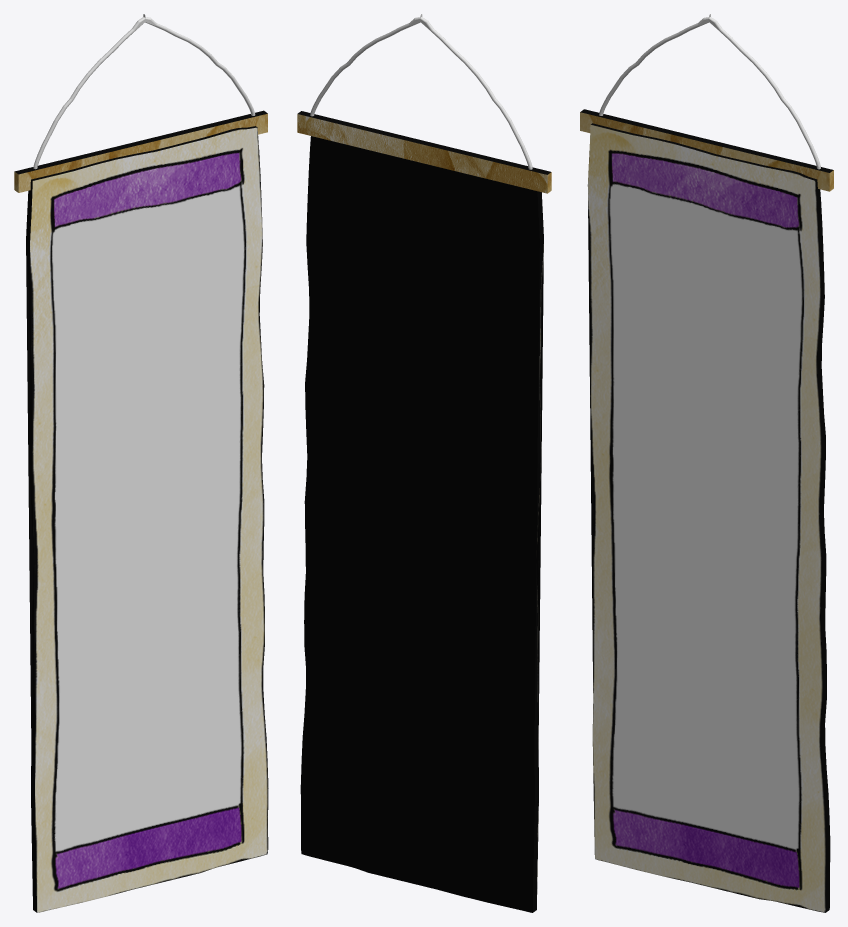
Rendered from PosterMod.fbx.
3 views of the same model, side by side, from view 1: azimuth 30°, elevation 25°; view 2: azimuth 150°, elevation 25°; view 3: azimuth 330°, elevation 25° (orthographic).
Parts seen in each view (by area): view 1: Cartel, Soporte, Cuerda; view 2: Cartel, Soporte, Cuerda; view 3: Cartel, Soporte, Cuerda.
Part boxes in pixels (box(x1,y1,x2,y2)): Cartel: box(26, 126, 268, 912); Soporte: box(14, 110, 267, 192); Cuerda: box(33, 14, 255, 169); Cartel: box(300, 136, 543, 912); Soporte: box(297, 111, 551, 193); Cuerda: box(310, 14, 532, 169); Cartel: box(587, 123, 830, 912); Soporte: box(580, 109, 833, 191); Cuerda: box(599, 14, 820, 169).
Size of the model in its own units: 0.7 by 2.33 by 0.0292.
